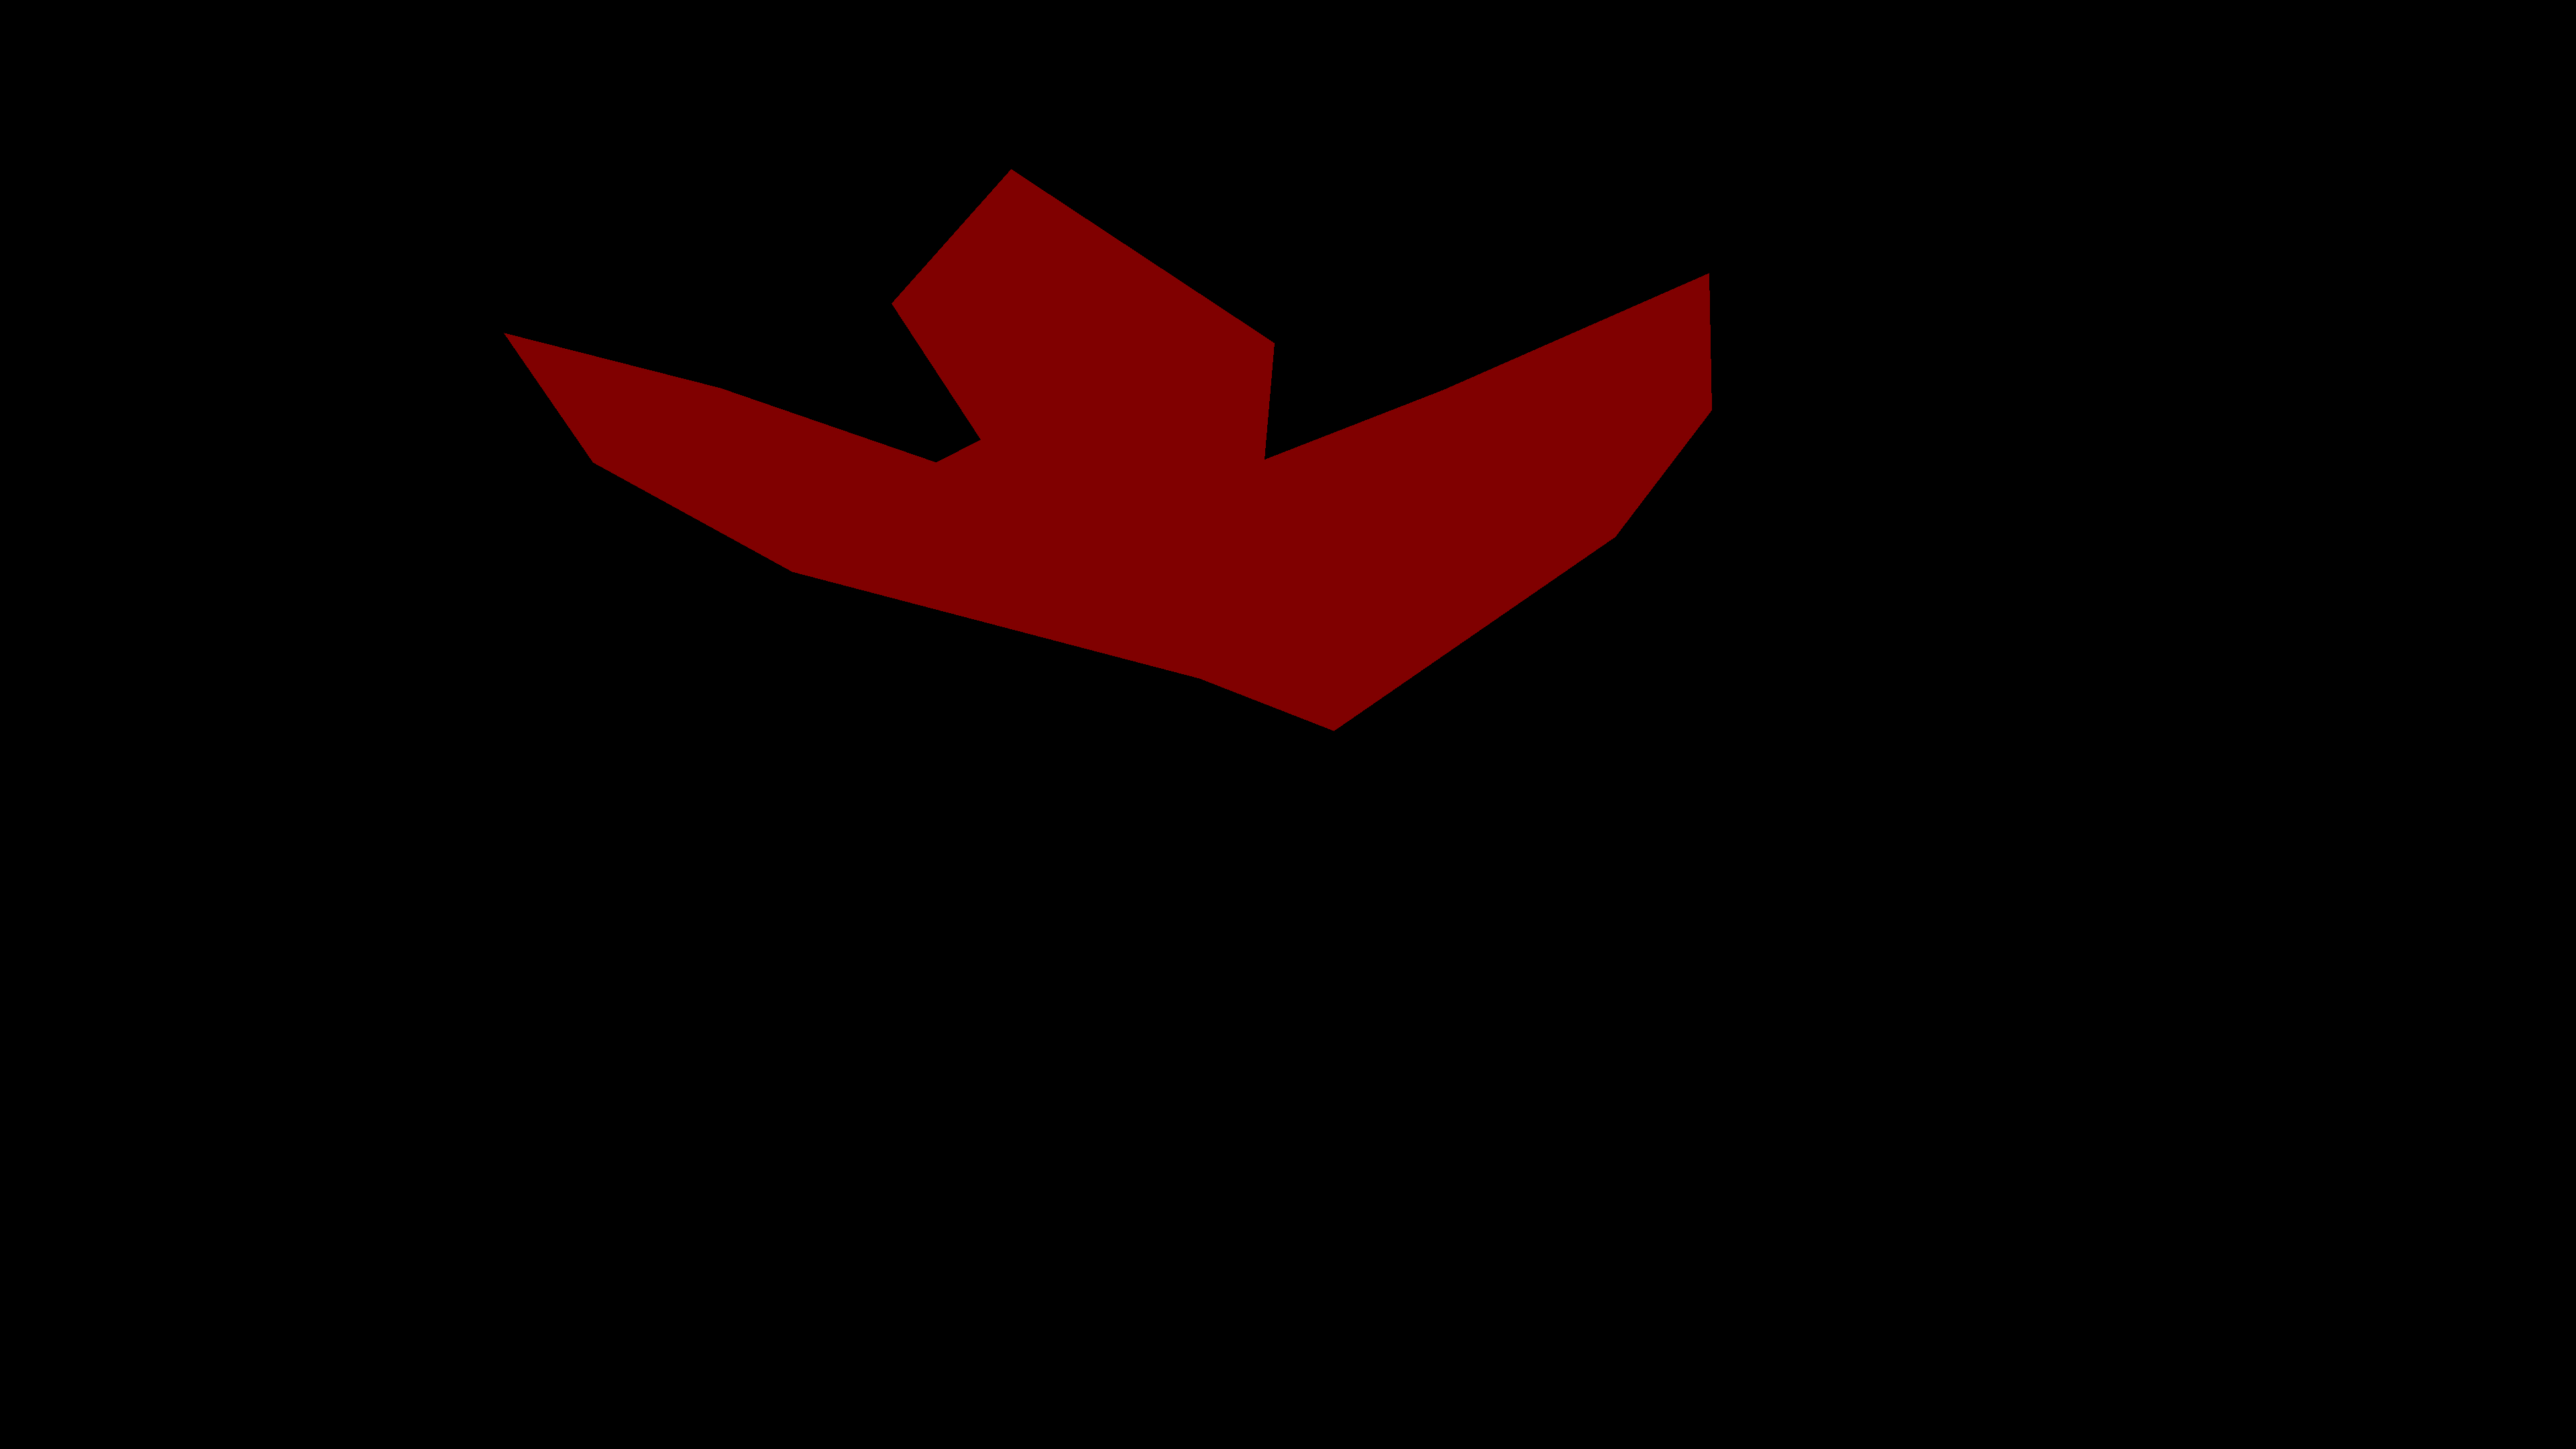fire: (504, 170, 1711, 731)
